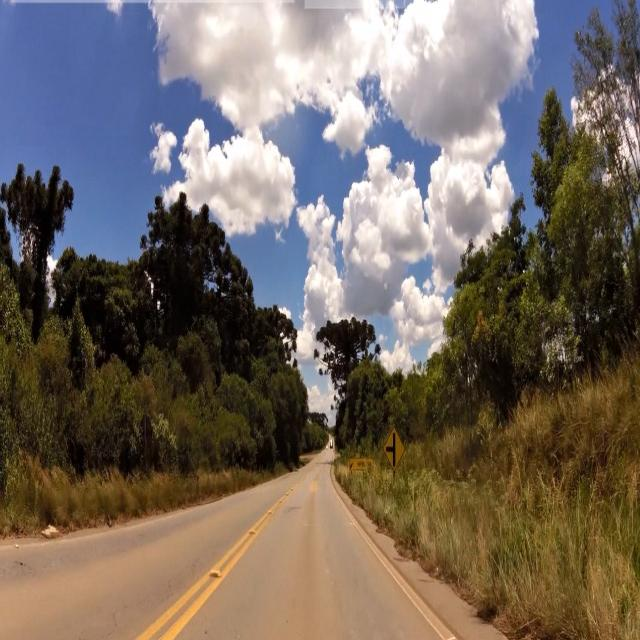A-7a: (383, 427, 405, 474)
